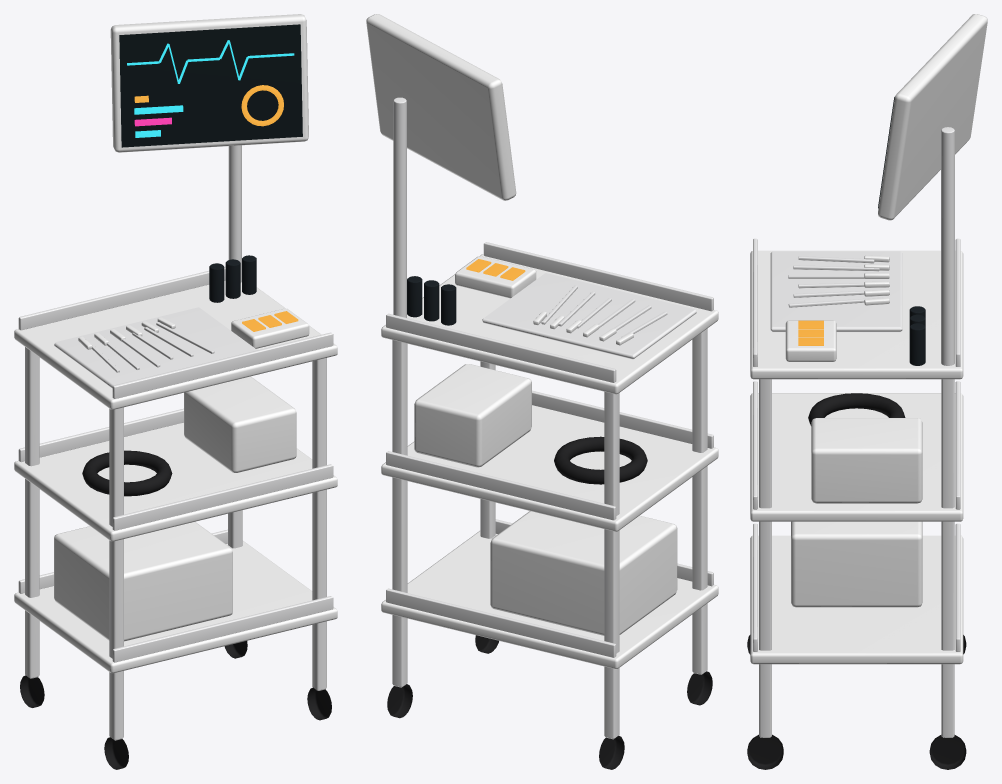
File: cart.glb
3 renders of one model, left to right at view 1: azimuth 30°, elevation 25°; view 2: azimuth 150°, elevation 25°; view 3: azimuth 270°, elevation 25°, orthographic. The views are drawn at different scales.
Parts seen in each view (by area): view 1: monitor_screen, box_low, shelf.001, shelf.002, shelf, box_low2, tray, monitor_case, leg.001, leg, leg.002, shelf_rail.002 (+14 smaller); view 2: box_low, monitor_case, shelf.001, shelf, shelf.002, box_low2, tray, leg, leg.001, leg.003, shelf_rail.003, shelf_rail.004 (+13 smaller); view 3: shelf, shelf.001, shelf.002, box_low, monitor_case, box_low2, tray, leg.003, leg.002, monitor_pole, chip_case, coil (+9 smaller).
Boxes of the visible parts, x1,y1,x2,y2 form: monitor_screen: (119, 24, 302, 147); box_low: (54, 522, 232, 641); shelf.001: (14, 422, 337, 541); shelf.002: (14, 280, 337, 409); shelf: (14, 540, 337, 673); box_low2: (184, 376, 296, 472); tray: (54, 307, 257, 388); monitor_case: (110, 14, 308, 152); leg.001: (25, 347, 39, 678); leg: (109, 407, 123, 740); leg.002: (312, 358, 326, 690); shelf_rail.002: (112, 464, 333, 530); box_low: (490, 511, 677, 635); monitor_case: (366, 14, 516, 200); shelf.001: (381, 405, 718, 531); shelf: (381, 531, 718, 669); shelf.002: (381, 254, 718, 394); box_low2: (414, 364, 531, 467); tray: (482, 273, 696, 359); leg: (692, 328, 707, 674); leg.001: (604, 391, 619, 739); leg.003: (392, 340, 407, 687); shelf_rail.003: (386, 451, 616, 520); shelf_rail.004: (483, 242, 713, 311); shelf: (750, 535, 963, 664); shelf.001: (750, 393, 963, 521); shelf.002: (750, 250, 963, 379); box_low: (791, 521, 922, 607); monitor_case: (878, 14, 987, 220); box_low2: (811, 418, 922, 503); tray: (770, 251, 902, 332); leg.003: (941, 379, 954, 737); leg.002: (759, 379, 771, 737); monitor_pole: (941, 127, 954, 365); chip_case: (785, 320, 836, 361); coil: (808, 393, 905, 425).
Size of the model in its own units: 0.6545 by 1.52 by 0.4742.
